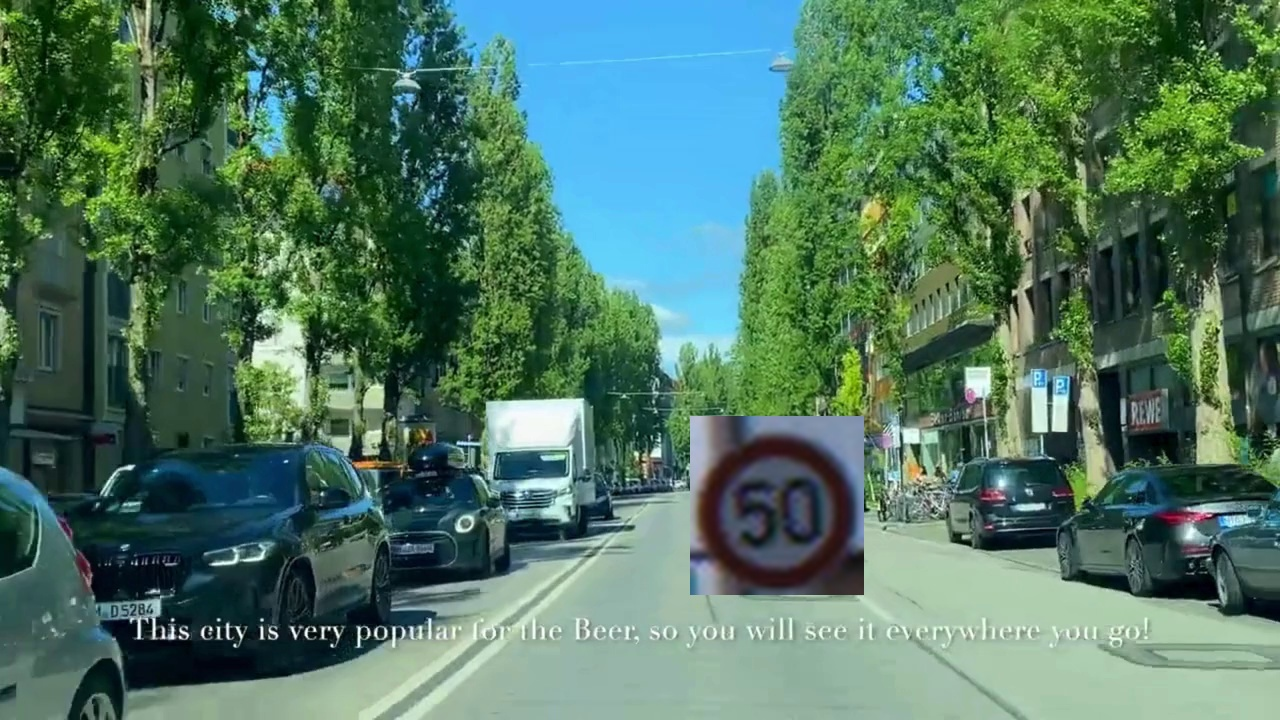Speed 50: (690, 416, 864, 595)
